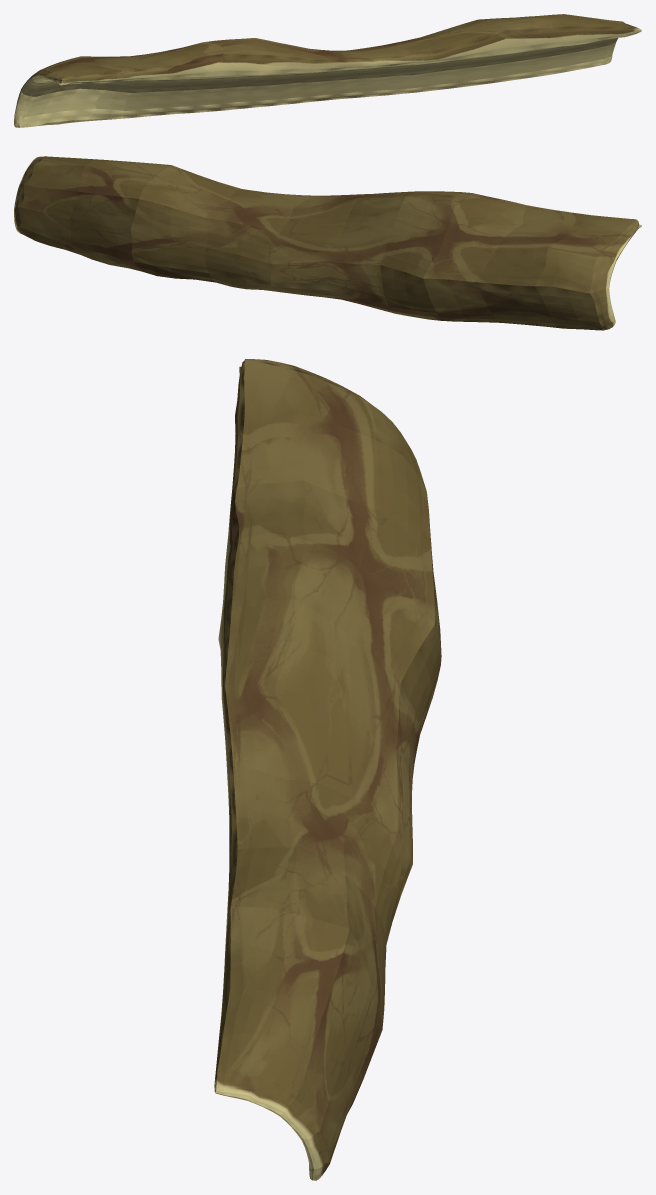
The model's file is log1_3.fbx.
The picture shows the model from 3 angles, top to bottom: view 1: azimuth 30°, elevation 25°; view 2: azimuth 150°, elevation 25°; view 3: azimuth 270°, elevation 25°; orthographic projection. The views are drawn at different scales.
Visible parts, largest first — view 1: polySurface10; view 2: polySurface10; view 3: polySurface10.
Boxes of the visible parts, bbox=[...] form: polySurface10: bbox=[14, 14, 641, 127]; polySurface10: bbox=[14, 156, 641, 330]; polySurface10: bbox=[214, 359, 441, 1180].
Size of the model in its own units: 813 by 182 by 136.
1 material, 1 textured.
